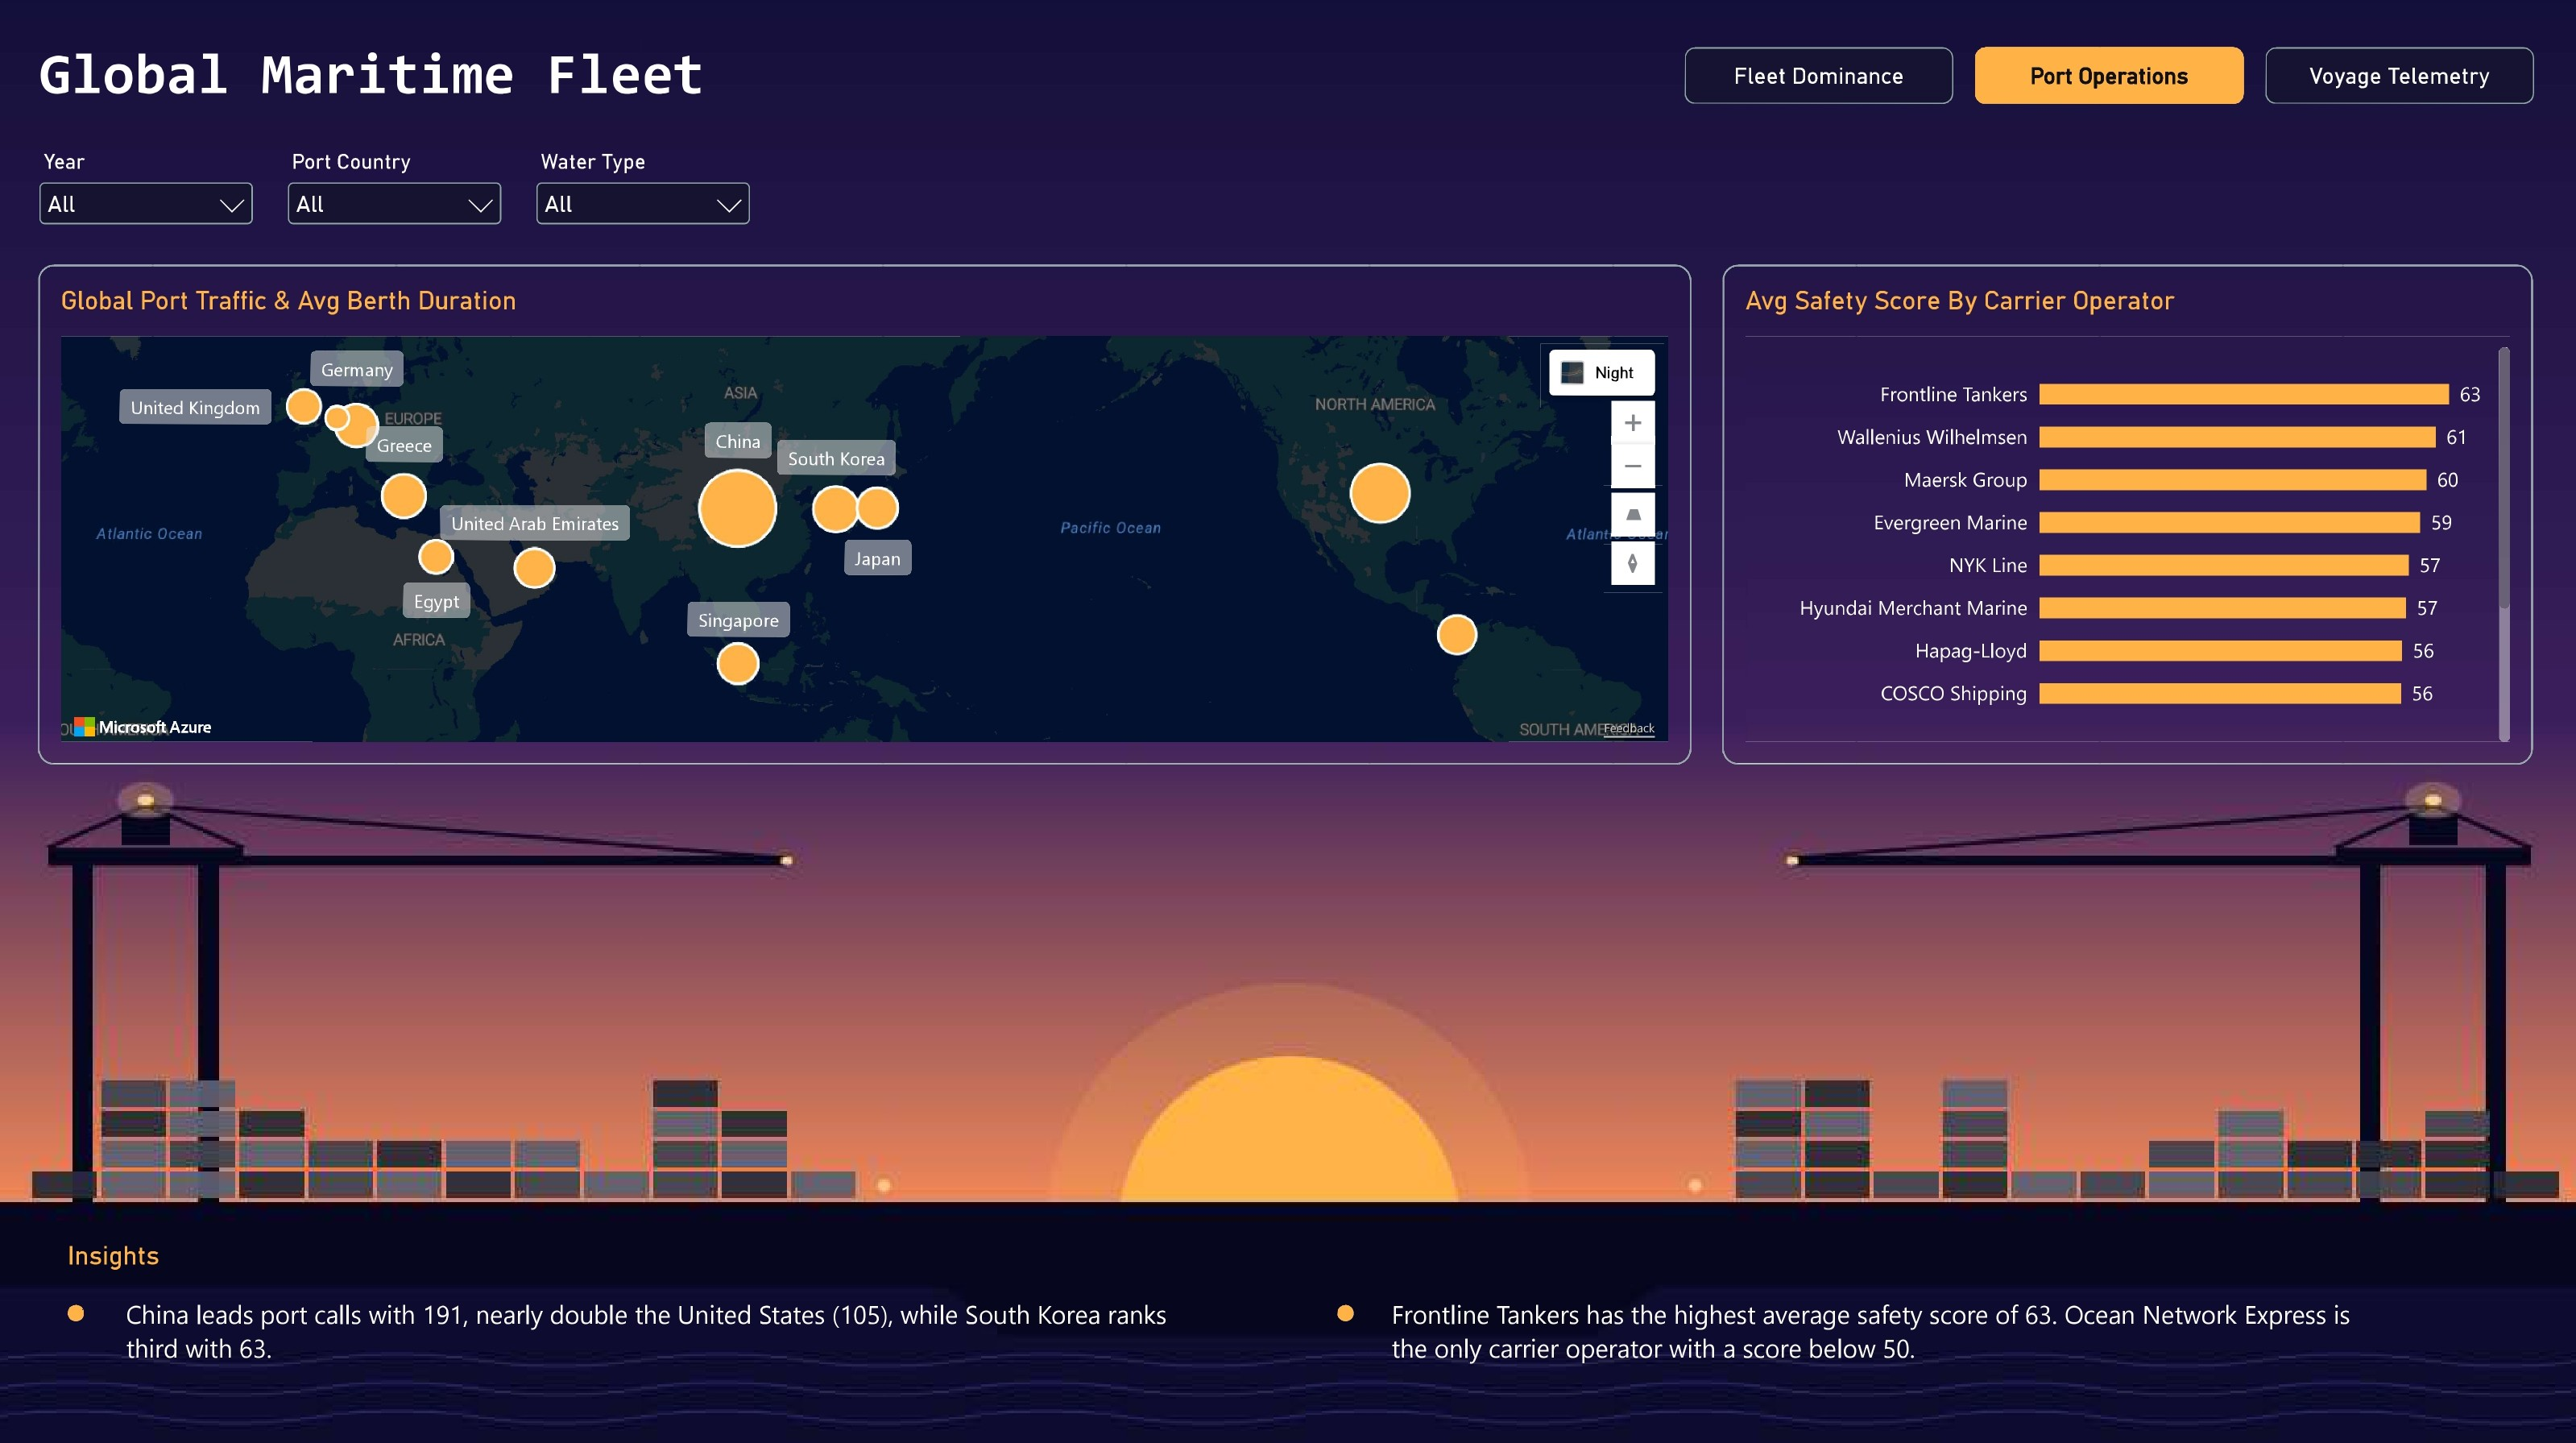

This screenshot's page, from the dashboard's own definition file:
{"tool":"powerbi","page":{"name":"Port Operations","canvas":[1920,1080],"ordinal":1},"visuals":[{"type":"image","box":[0,0,1920.7,1080.8],"z":0},{"type":"textbox","box":[98.5,968,783.5,88],"z":0,"group":"g2"},{"type":"textbox","box":[35,37.5,670,70],"z":1000},{"type":"shape","box":[56,974,12,12],"z":1000,"group":"g2"},{"type":"pageNavigator","box":[1252.5,42.5,630,42.5],"z":2000},{"type":"group","id":"g1","title":"Group 1","box":[24.3,112.3,550,77.5],"z":3000},{"type":"clusteredBarChart","title":"Avg Safety Score By Carrier Operator","fields":{"Category":["Dim_Vessels.Operator_Name"],"Y":["_Measures.Avg PSC Safety Score"]},"box":[1281,204.4,600,370],"z":4000},{"type":"slicer","title":"Year","fields":{"Values":["Dim_Date.Year"]},"box":[24.3,112.4,180,76],"z":5000,"group":"g1"},{"type":"azureMap","title":"Global Port Traffic & Avg Berth Duration","fields":{"Category":["Dim_Ports.Port_Country_Name","Dim_Ports.Port_Name"],"Size":["_Measures.Total Port Calls"]},"box":[34,204,1224,370],"z":5000},{"type":"slicer","title":"Shipyard Country","fields":{"Values":["Dim_Ports.Port_Country_Name"]},"box":[208.5,112.3,180,76.2],"z":6000,"group":"g1"},{"type":"group","id":"g2","title":"Group 2","box":[56,968,826,88],"z":6001},{"type":"textbox","box":[56,926,162,44],"z":6002},{"type":"group","id":"g3","title":"Group 4","box":[996,968,770,88],"z":6003},{"type":"slicer","fields":{"Values":["Dim_Ports.Water_Type"]},"box":[392.7,112.3,180,76.2],"z":7000,"group":"g1"},{"type":"textbox","box":[1035.6,968,730.3,88],"z":10000,"group":"g3"},{"type":"shape","box":[996,974,12,12],"z":11000,"group":"g3"}]}

Visuals, with their boxes in screenshot pixels (x1, y1, x2, y2), scaled from the page's 1920x1080 canvas onto the 2576x1443 screenshot:
image: (left=0, top=0, right=2575, bottom=1442)
textbox: (left=132, top=1293, right=1183, bottom=1411)
textbox: (left=47, top=50, right=946, bottom=143)
shape: (left=75, top=1301, right=91, bottom=1317)
pageNavigator: (left=1680, top=56, right=2526, bottom=114)
"Group 1" group: (left=32, top=150, right=771, bottom=254)
"Avg Safety Score By Carrier Operator" clusteredBarChart: (left=1719, top=273, right=2524, bottom=768)
"Year" slicer: (left=32, top=150, right=274, bottom=251)
"Global Port Traffic & Avg Berth Duration" azureMap: (left=46, top=272, right=1688, bottom=767)
"Shipyard Country" slicer: (left=280, top=150, right=521, bottom=252)
"Group 2" group: (left=75, top=1293, right=1183, bottom=1411)
textbox: (left=75, top=1238, right=292, bottom=1296)
"Group 4" group: (left=1336, top=1293, right=2369, bottom=1411)
slicer - Dim_Ports.Water_Type: (left=527, top=150, right=768, bottom=252)
textbox: (left=1389, top=1293, right=2369, bottom=1411)
shape: (left=1336, top=1301, right=1352, bottom=1317)
